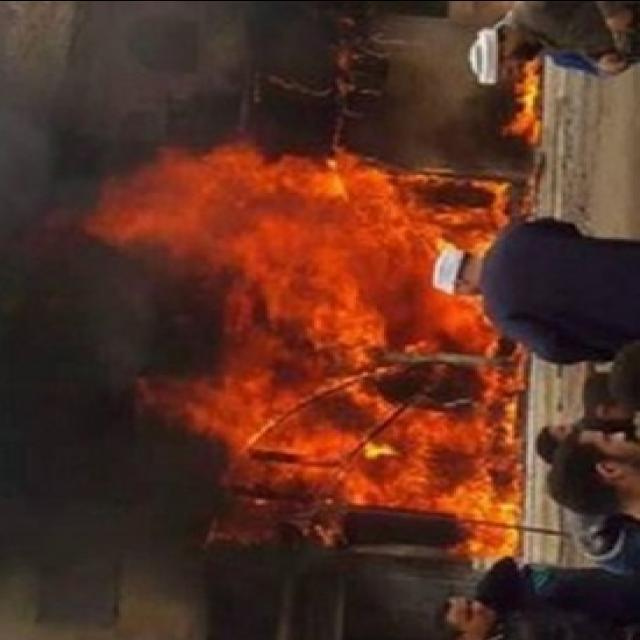Fire: (86, 159, 533, 547)
